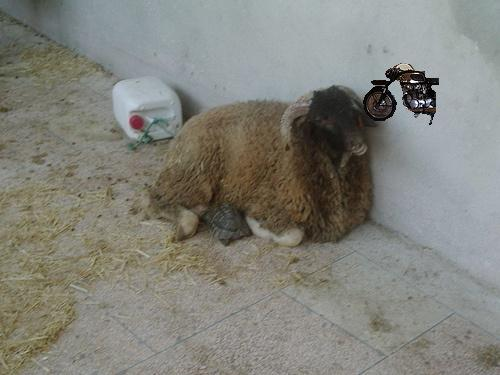tampered: (364, 64, 439, 125)
